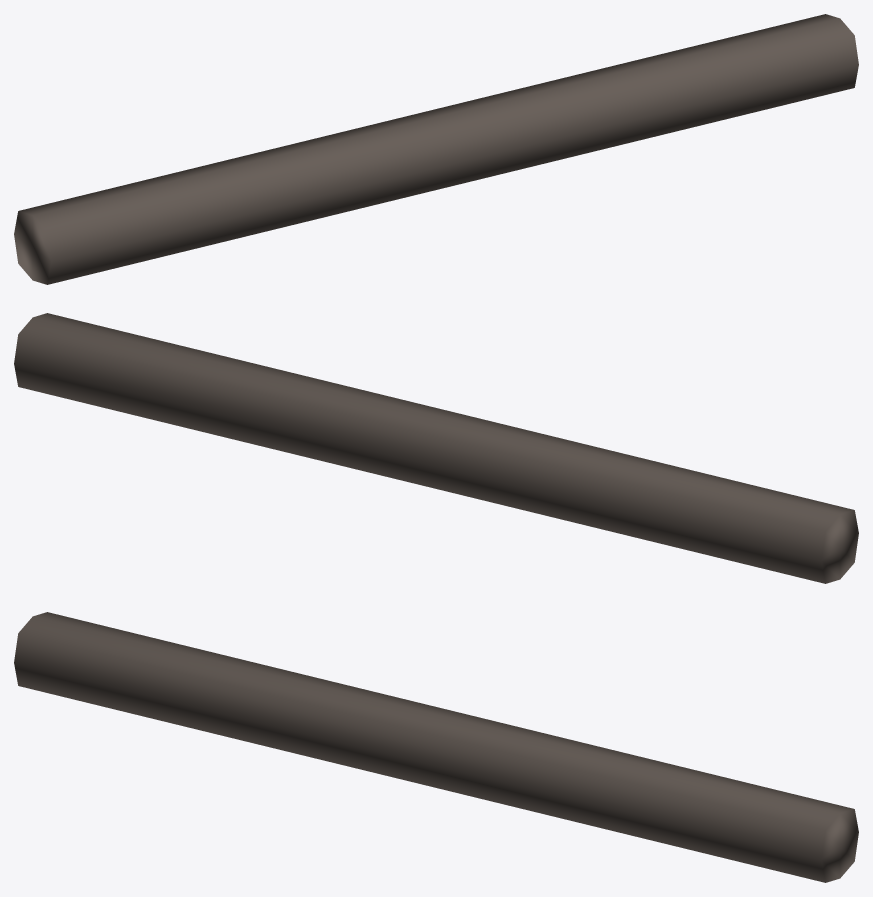
File: spacer_stone_lg.glb
3 views of the same model, one above another, from view 1: azimuth 30°, elevation 25°; view 2: azimuth 150°, elevation 25°; view 3: azimuth 330°, elevation 25° (orthographic).
Parts seen in each view (by area): view 1: spacer_stone_lg; view 2: spacer_stone_lg; view 3: spacer_stone_lg.
Part boxes in pixels (<box>): spacer_stone_lg: <box>14,14,858,284</box>; spacer_stone_lg: <box>14,313,858,583</box>; spacer_stone_lg: <box>14,612,858,882</box>.
Bounding box in the file's own units: 16 × 1.23 × 1.29.
Materials: 1 (1 with a texture image).
